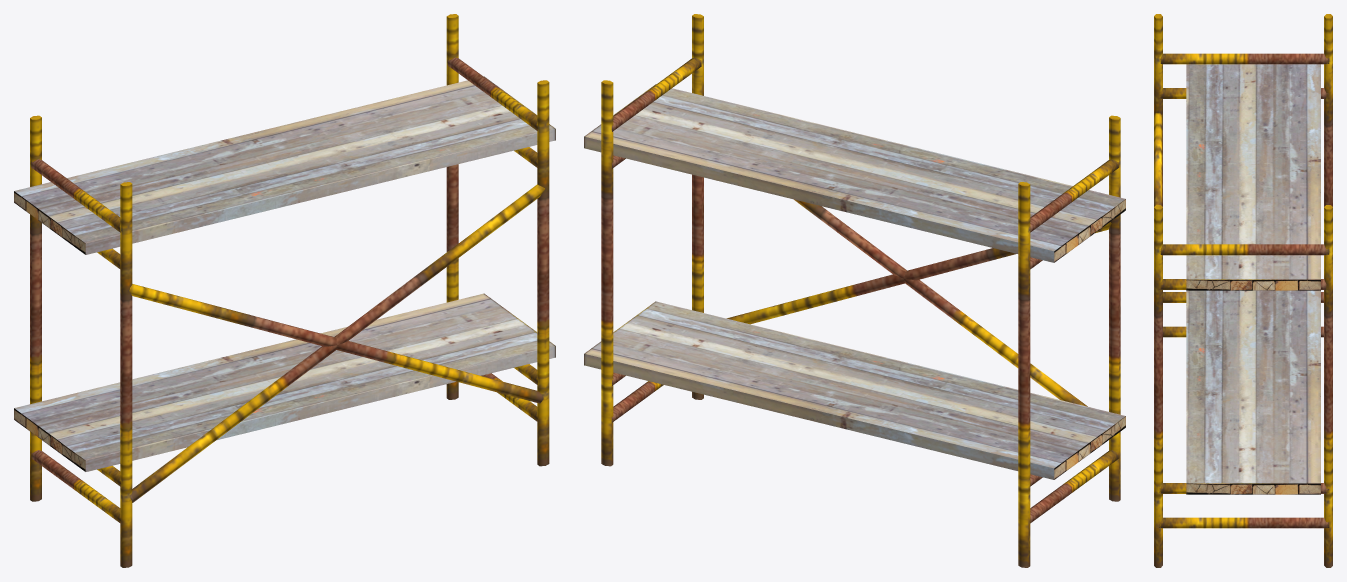
The model's file is objects_scaffolding_wood.gltf.
3 renders of one model, left to right at view 1: azimuth 30°, elevation 25°; view 2: azimuth 150°, elevation 25°; view 3: azimuth 270°, elevation 25°, orthographic. The views are drawn at different scales.
Visible parts, largest first — view 1: objects_scaffolding_wood; view 2: objects_scaffolding_wood; view 3: objects_scaffolding_wood.
Part boxes in pixels (x1,y1,x2,y2): objects_scaffolding_wood: [14, 14, 555, 567]; objects_scaffolding_wood: [584, 14, 1125, 567]; objects_scaffolding_wood: [1154, 14, 1332, 567].
Bounding box in the file's own units: 2.54 × 1.97 × 0.8906.
Materials: 1 (1 with a texture image).
